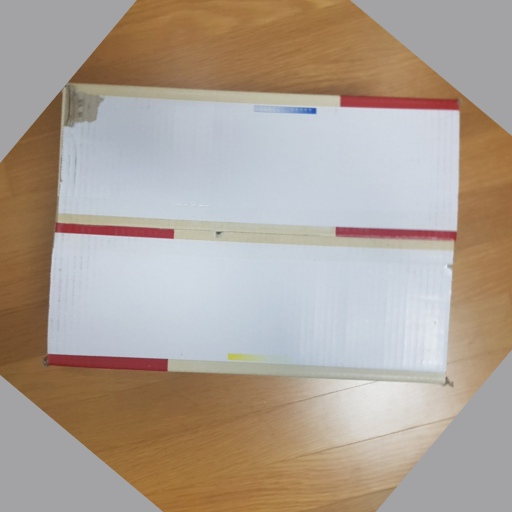Paper_0: (41, 79, 467, 401)
